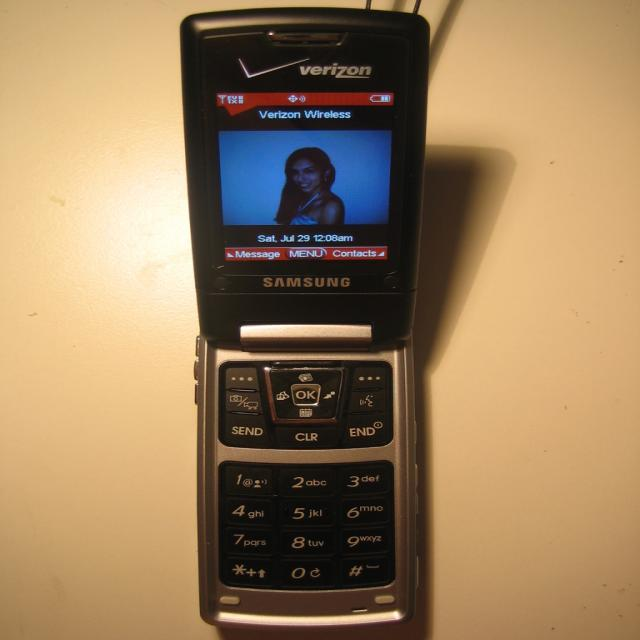Mobile-phone: (158, 21, 460, 613)
